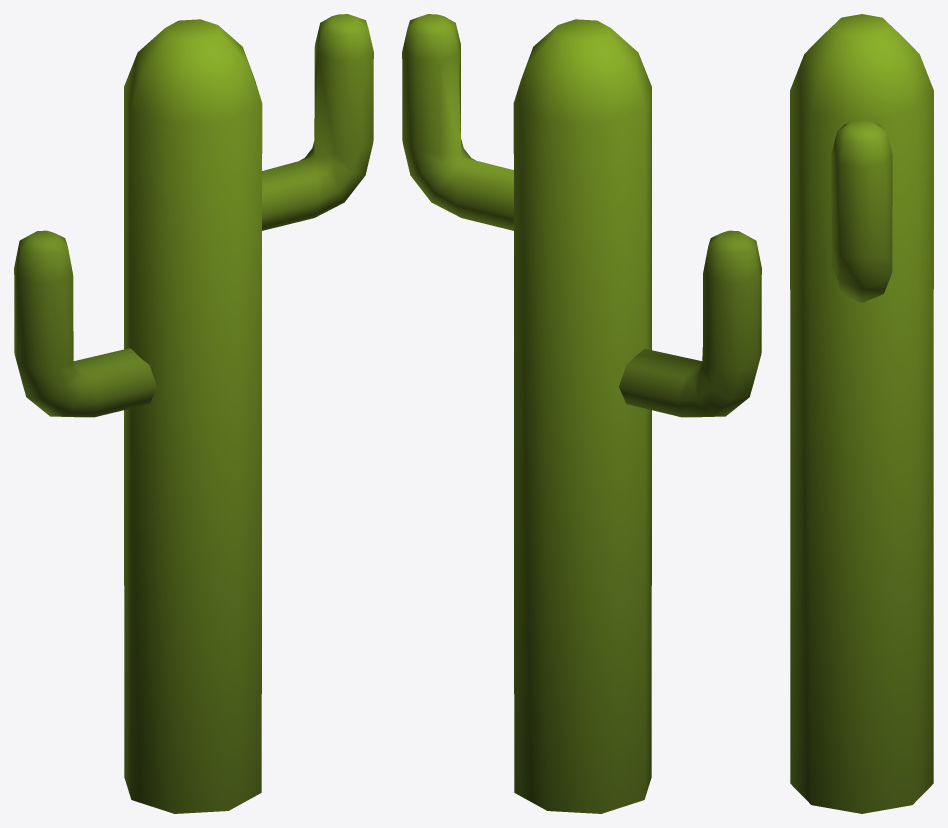
Rendered from Cactus1.fbx.
3 renders of one model, left to right at view 1: azimuth 30°, elevation 25°; view 2: azimuth 150°, elevation 25°; view 3: azimuth 270°, elevation 25°, orthographic.
Parts seen in each view (by area): view 1: Circle.001; view 2: Circle.001; view 3: Circle.001.
Part boxes in pixels (<box>): Circle.001: <box>14,14,373,813</box>; Circle.001: <box>402,14,761,813</box>; Circle.001: <box>790,14,933,813</box>.
Size of the model in its own units: 181 by 370 by 63.66.
